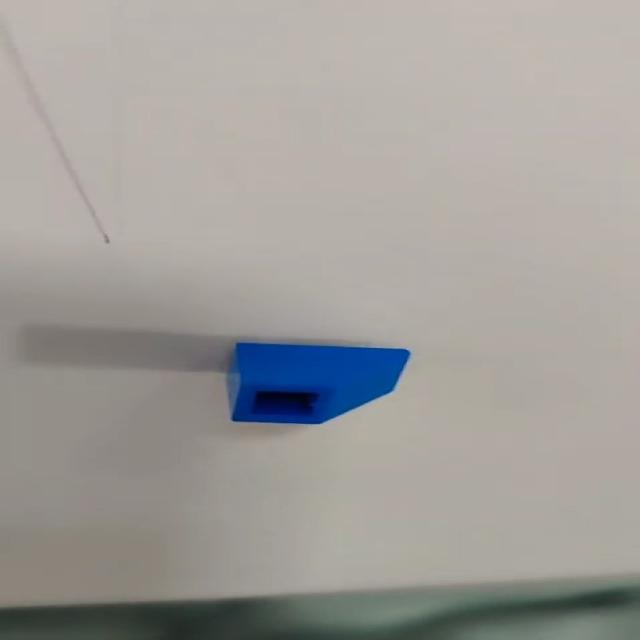X1x2x1: (228, 338, 408, 428)
